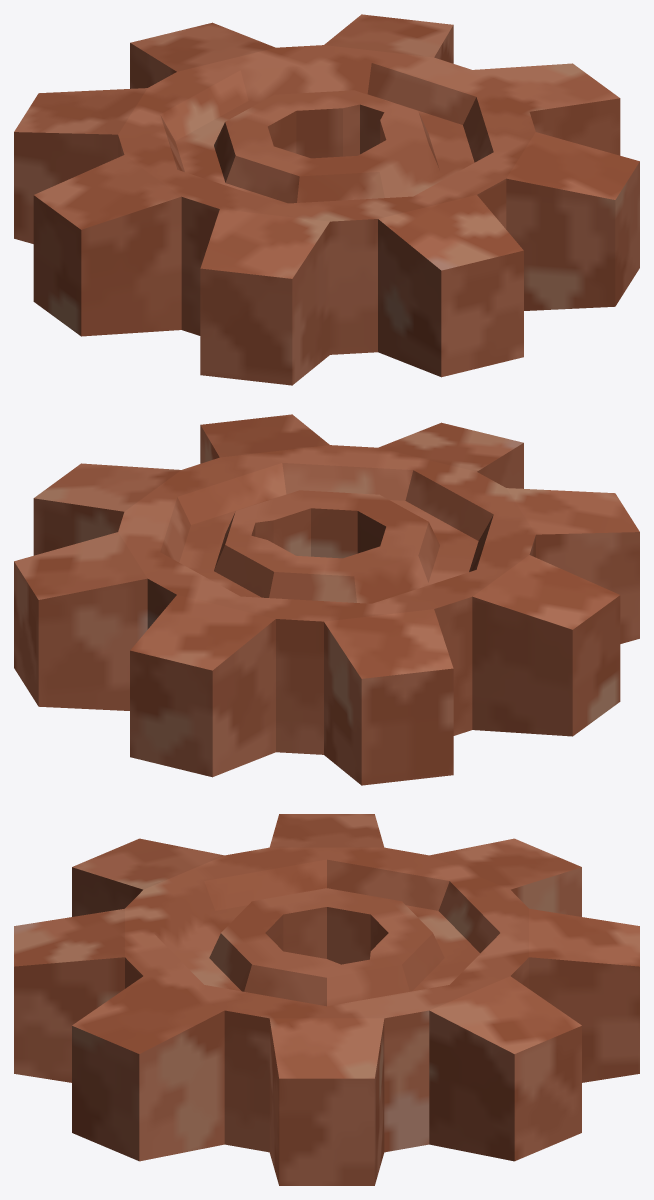
File: gear.fbx
The picture shows the model from 3 angles, top to bottom: view 1: azimuth 30°, elevation 25°; view 2: azimuth 150°, elevation 25°; view 3: azimuth 270°, elevation 25°; orthographic projection.
Parts seen in each view (by area): view 1: шестерня; view 2: шестерня; view 3: шестерня.
Boxes of the visible parts, x1,y1,x2,y2 form: шестерня: [14, 14, 639, 385]; шестерня: [14, 414, 639, 785]; шестерня: [14, 814, 639, 1185].
Bounding box in the file's own units: 8.46 × 2 × 8.46.
